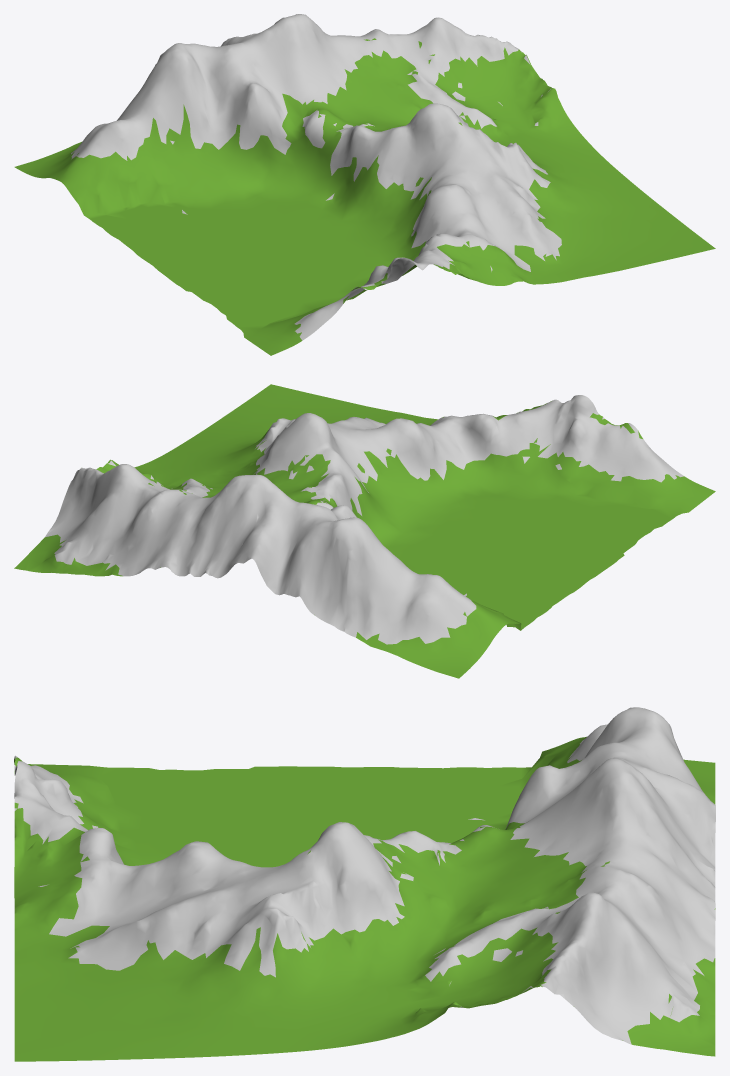
The model's file is terrenoMontaña (2).fbx.
3 views of the same model, one above another, from view 1: azimuth 30°, elevation 25°; view 2: azimuth 150°, elevation 25°; view 3: azimuth 270°, elevation 25° (orthographic). The views are drawn at different scales.
Visible parts, largest first — view 1: Plano; view 2: Plano; view 3: Plano.
Boxes of the visible parts, x1,y1,x2,y2 form: Plano: [14, 14, 715, 355]; Plano: [14, 384, 715, 678]; Plano: [14, 707, 715, 1061].
Bounding box in the file's own units: 468 × 122 × 469.
